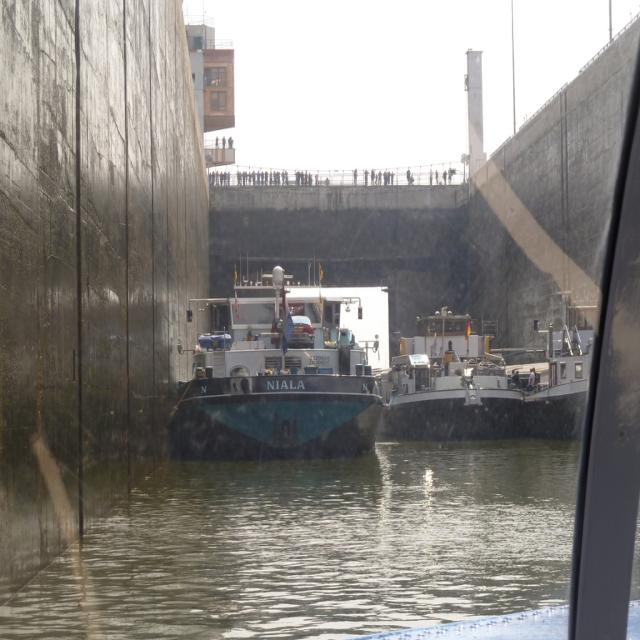Boat: (164, 238, 402, 457), (376, 301, 526, 438), (512, 282, 603, 450)
